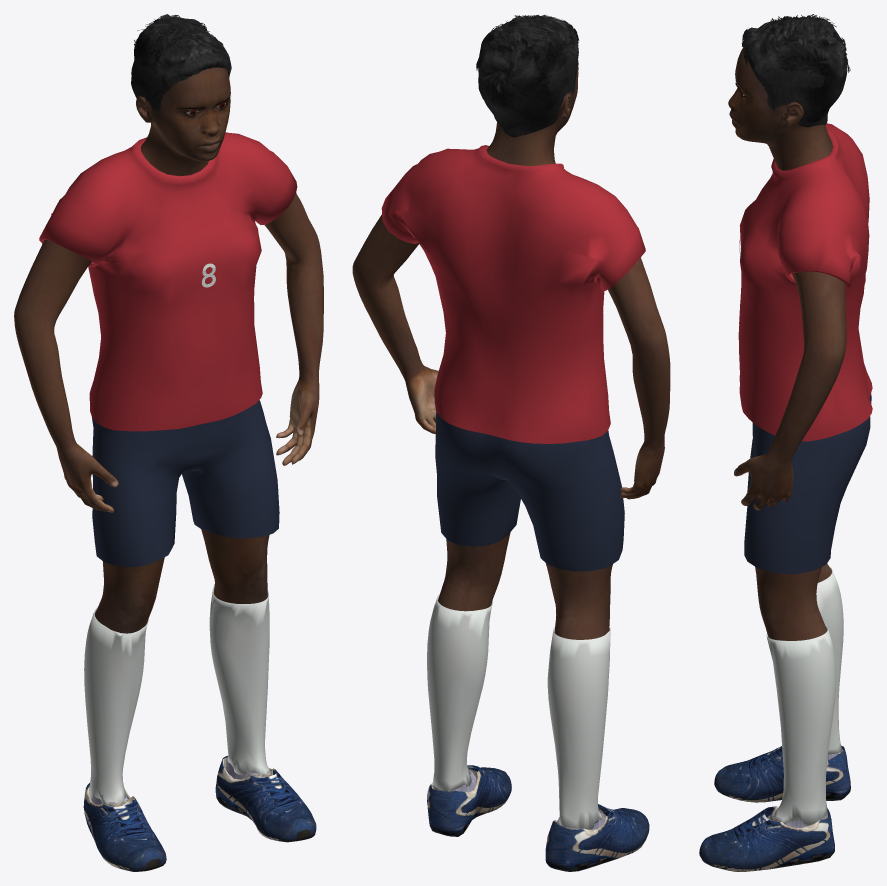
The model's file is skin-pro.glb.
3 renders of one model, left to right at view 1: azimuth 30°, elevation 25°; view 2: azimuth 150°, elevation 25°; view 3: azimuth 270°, elevation 25°, orthographic. The views are drawn at different scales.
Visible parts, largest first — view 1: male_casualsuit04, Micah | anatomical body, shoes06, Athletic sock | l, Athletic sock | r, short01; view 2: male_casualsuit04, Micah | anatomical body, Athletic sock | r, short01, Athletic sock | l, shoes06; view 3: male_casualsuit04, Micah | anatomical body, shoes06, Athletic sock | l, short01, Athletic sock | r.
Part boxes in pixels (bbox=[...]): male_casualsuit04: bbox=[39, 132, 297, 567]; Micah | anatomical body: bbox=[14, 67, 323, 796]; shoes06: bbox=[83, 756, 316, 871]; Athletic sock | l: bbox=[209, 584, 270, 775]; Athletic sock | r: bbox=[84, 607, 148, 803]; short01: bbox=[131, 14, 231, 111]; male_casualsuit04: bbox=[381, 145, 645, 571]; Micah | anatomical body: bbox=[352, 66, 670, 819]; Athletic sock | r: bbox=[547, 627, 610, 829]; short01: bbox=[476, 15, 579, 137]; Athletic sock | l: bbox=[427, 594, 492, 791]; shoes06: bbox=[427, 765, 649, 871]; male_casualsuit04: bbox=[738, 123, 872, 574]; Micah | anatomical body: bbox=[728, 48, 846, 823]; shoes06: bbox=[699, 745, 850, 871]; Athletic sock | l: bbox=[766, 625, 836, 826]; short01: bbox=[741, 14, 850, 127]; Athletic sock | r: bbox=[816, 566, 843, 754].
Size of the model in its own units: 0.7152 by 1.83 by 0.3552.
Materials: 10 (10 with a texture image).
